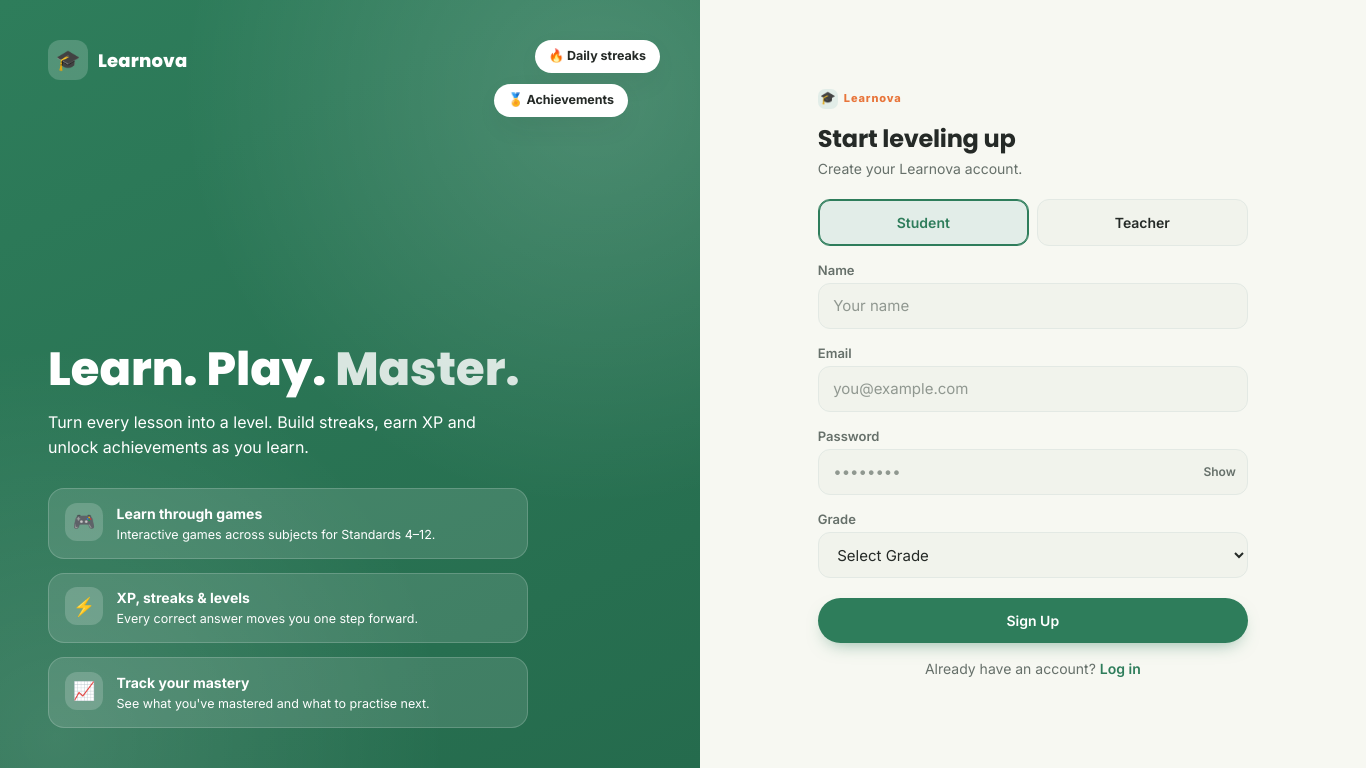
Scenario: Signup — new account › shows the API's error message and does not navigate on failure
Type "Priya" into the field labelled "Name" at (1033, 306), box [818,283,1248,329]
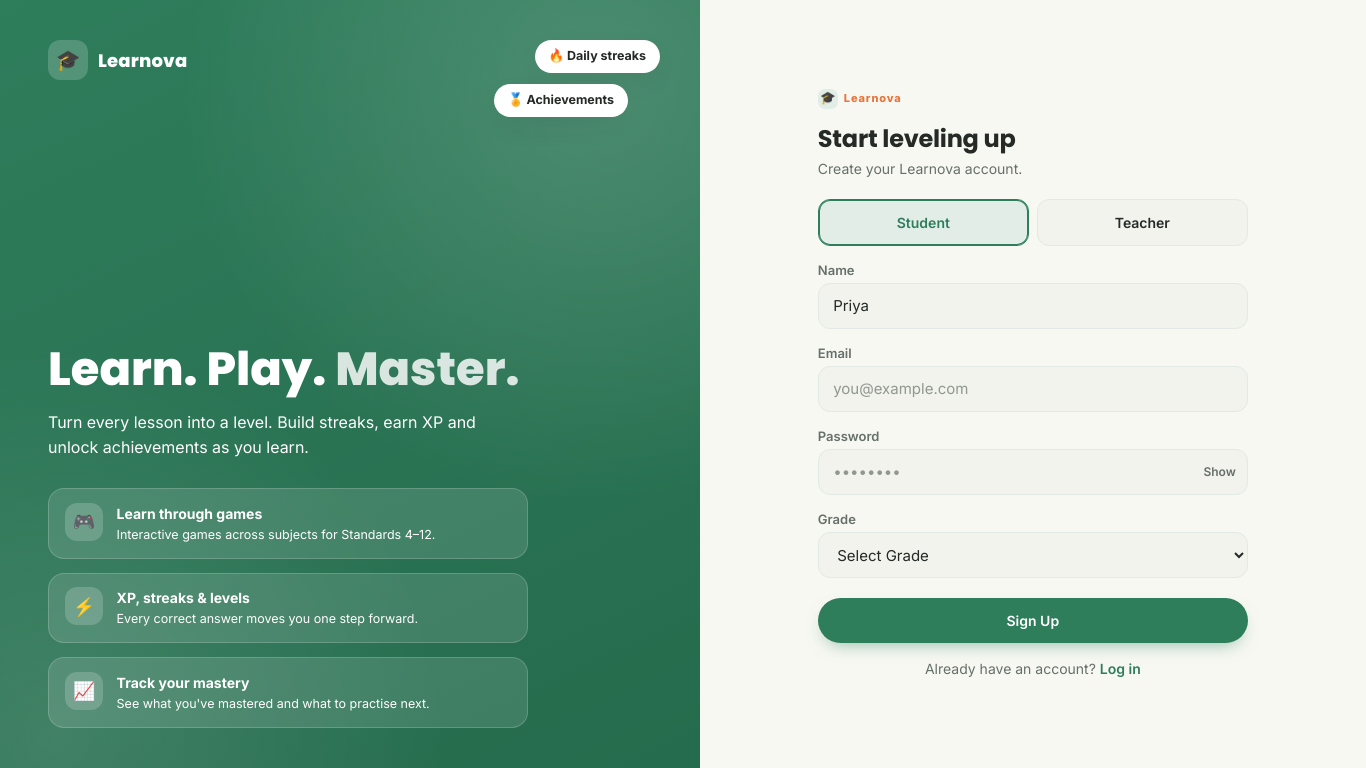
Type "priya@example.com" into the field labelled "Email" at (1033, 389), box [818,366,1248,412]
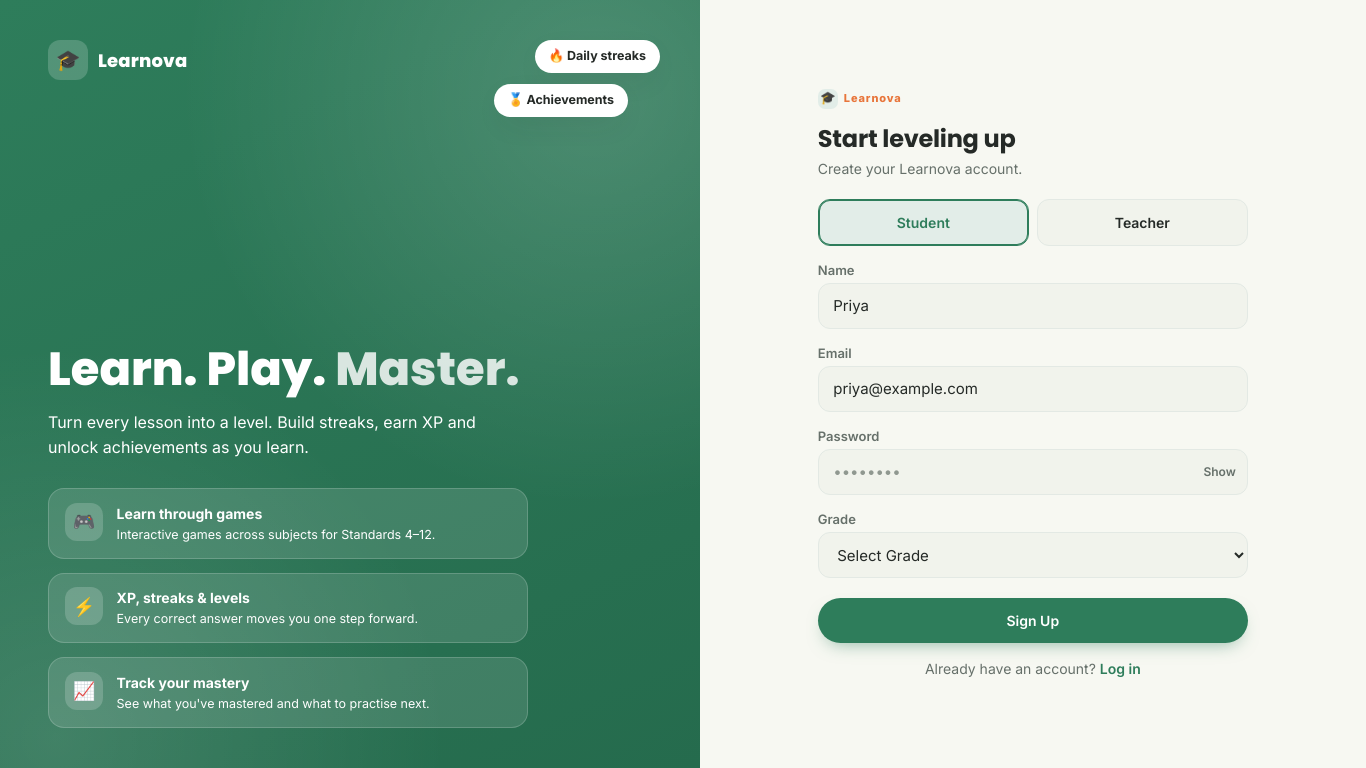
Type "secret123" into the password field labelled "Password" at (1033, 472), box [818,449,1248,495]
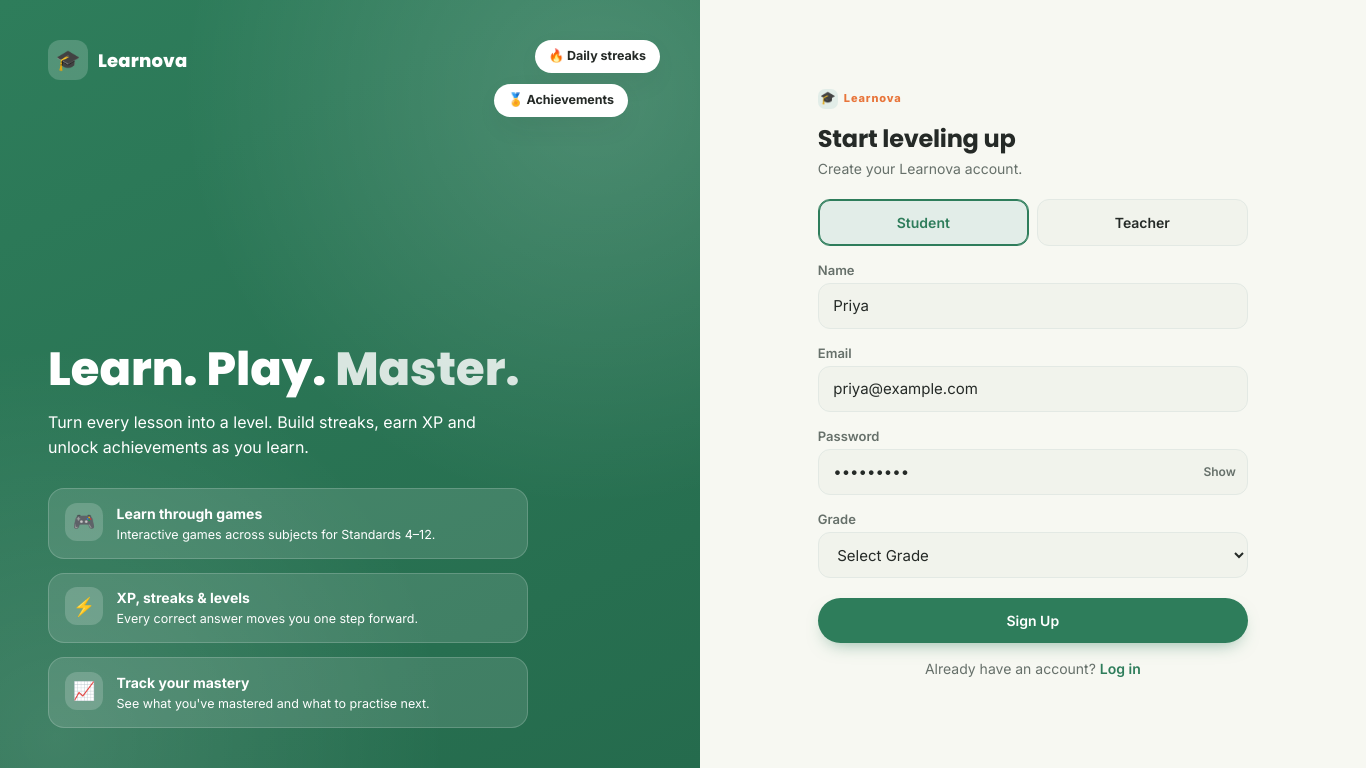
Select "Grade 8" in the dropdown labelled "Grade" at (1033, 555), box [818,532,1248,578]
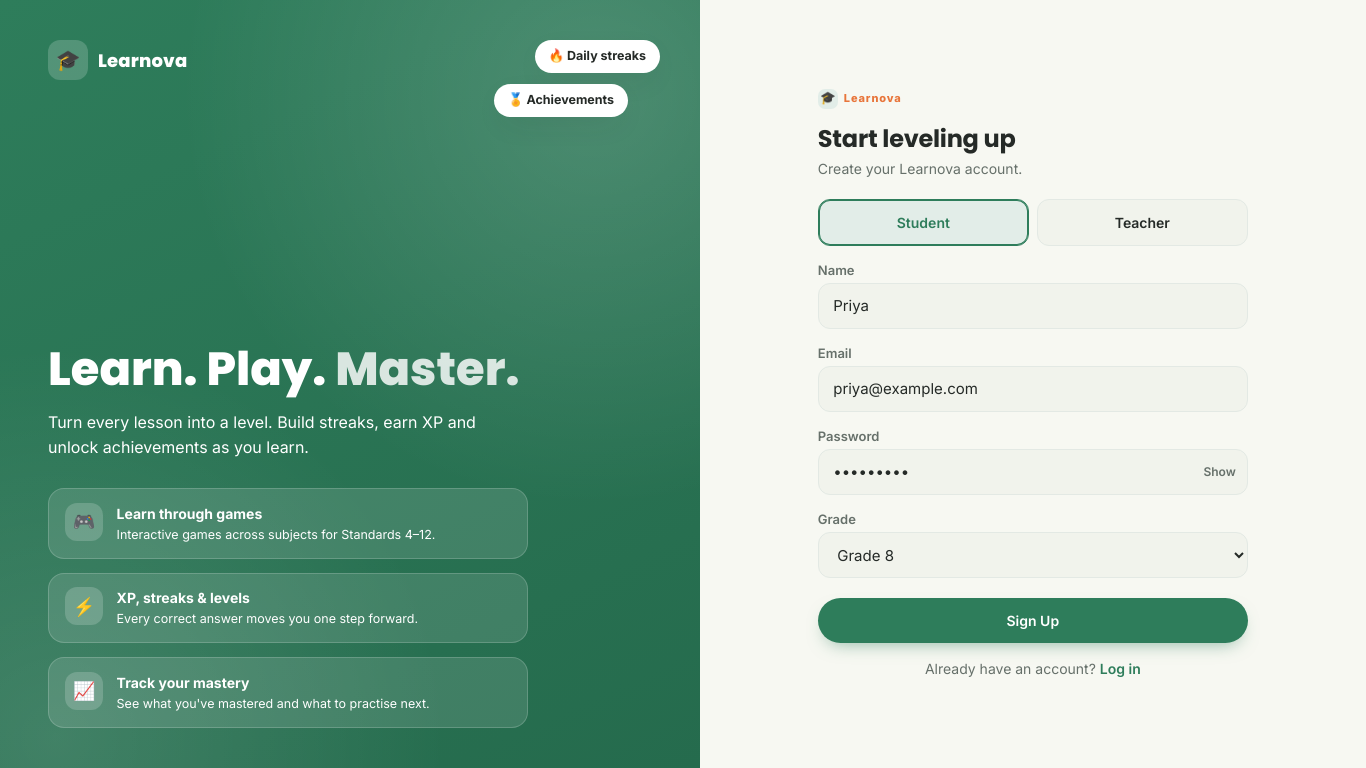
Click the button "Sign Up" at (1033, 620), box [818,598,1248,643]
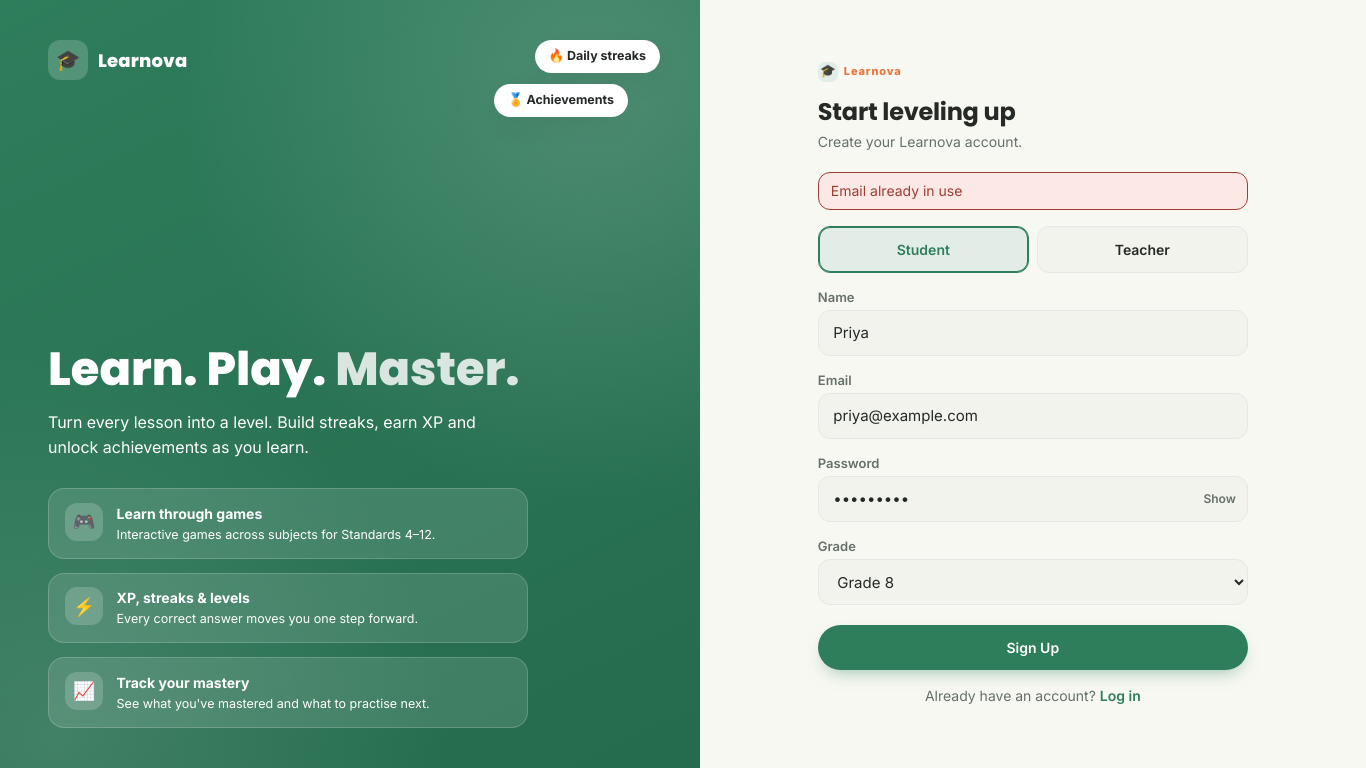
Expected: the text "Email already in use" is shown, [818,172,1248,210]
